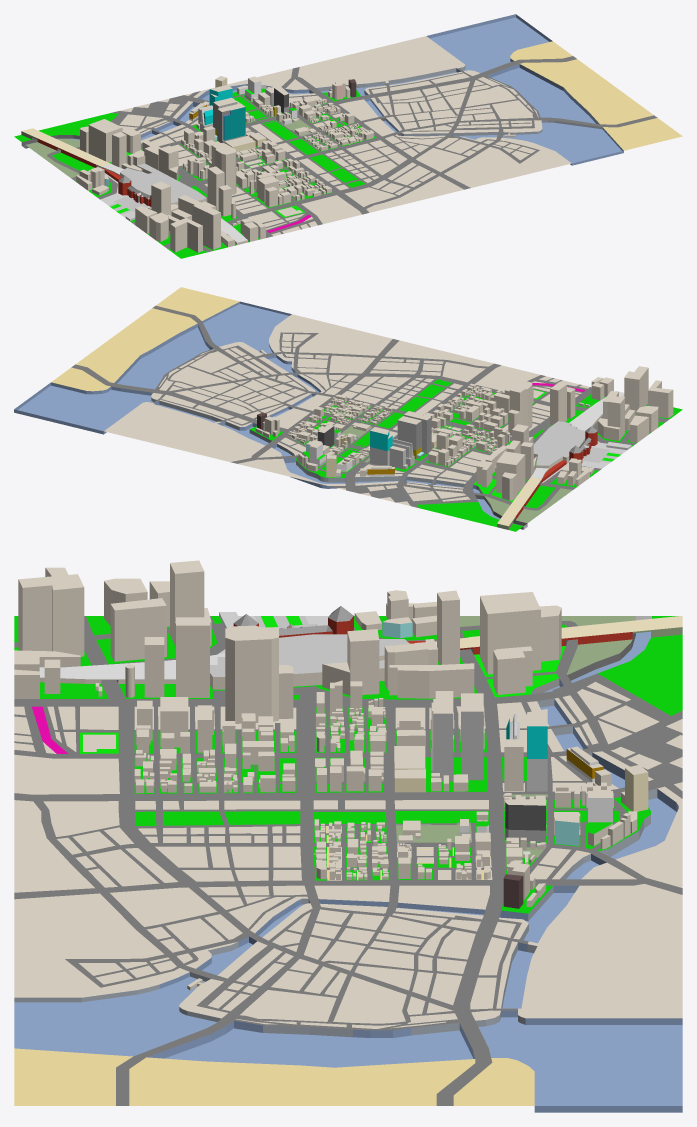
The model's file is nihonbashi.gltf.
3 views of the same model, one above another, from view 1: azimuth 30°, elevation 25°; view 2: azimuth 150°, elevation 25°; view 3: azimuth 270°, elevation 25° (orthographic). The views are drawn at different scales.
Visible parts, largest first — view 1: Node249, Node339, Node268, Node1026, Node270, Node985, Node1008, Node269, Node3227, Node27, Node3, Node271 (+11 smaller); view 2: Node249, Node339, Node268, Node1026, Node270, Node985, Node1008, Node3227, Node269, Node27, Node3228, Node3 (+12 smaller); view 3: Node249, Node339, Node1026, Node268, Node270, Node985, Node1008, Node269, Node27, Node3228, Node3, Node271 (+50 smaller).
Part boxes in pixels (<box>): Node249: <box>47,56,657,252</box>; Node339: <box>298,36,464,87</box>; Node268: <box>520,59,653,124</box>; Node1026: <box>430,17,548,73</box>; Node270: <box>444,138,571,187</box>; Node985: <box>502,122,621,163</box>; Node1008: <box>491,67,595,123</box>; Node269: <box>603,118,682,150</box>; Node3227: <box>120,163,206,203</box>; Node27: <box>366,176,463,212</box>; Node3: <box>301,195,361,222</box>; Node271: <box>510,41,572,60</box>; Node249: <box>71,305,668,510</box>; Node339: <box>104,402,265,461</box>; Node268: <box>75,308,197,382</box>; Node1026: <box>17,385,153,431</box>; Node270: <box>269,314,392,355</box>; Node985: <box>203,304,288,353</box>; Node1008: <box>117,327,209,389</box>; Node3227: <box>533,421,585,465</box>; Node269: <box>156,287,239,320</box>; Node27: <box>384,340,493,366</box>; Node3228: <box>416,502,499,526</box>; Node3: <box>475,365,533,391</box>; Node249: <box>14,616,682,1105</box>; Node339: <box>518,884,682,1018</box>; Node1026: <box>478,1017,682,1105</box>; Node268: <box>129,1057,475,1105</box>; Node270: <box>14,893,189,997</box>; Node985: <box>14,976,216,1056</box>; Node1008: <box>164,1028,472,1067</box>; Node269: <box>14,1048,132,1105</box>; Node27: <box>14,800,94,892</box>; Node3228: <box>598,634,682,715</box>; Node3: <box>14,757,119,794</box>; Node271: <box>453,1058,534,1105</box>.
Bounding box in the file's own units: 330944 × 29189 × 190775.
